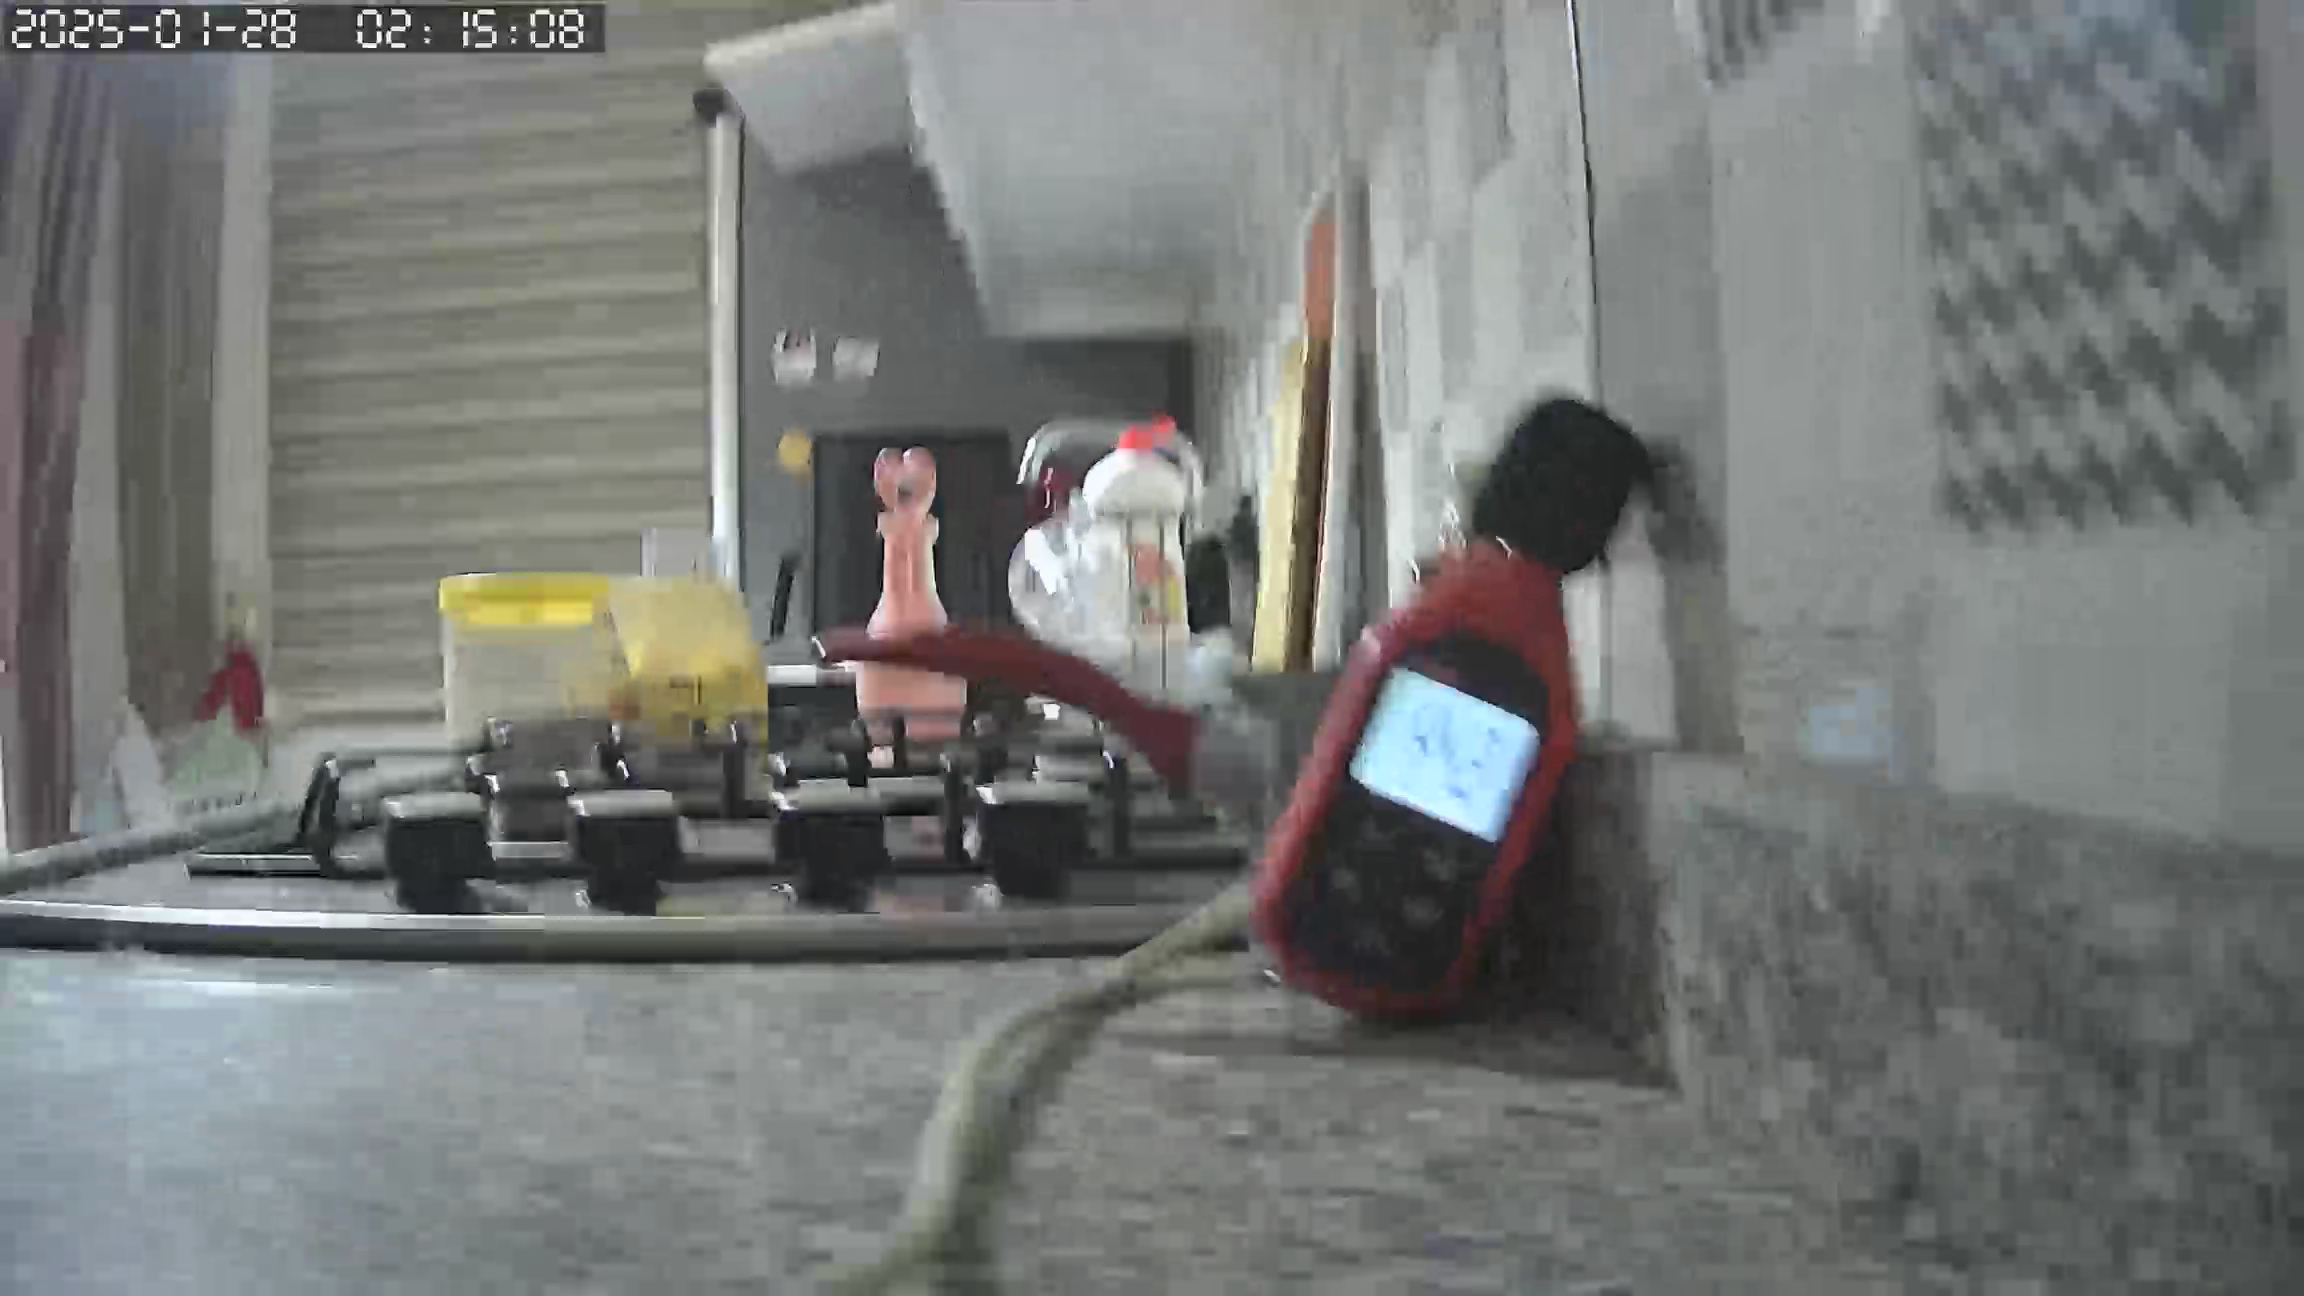screen: (1345, 663, 1538, 845)
